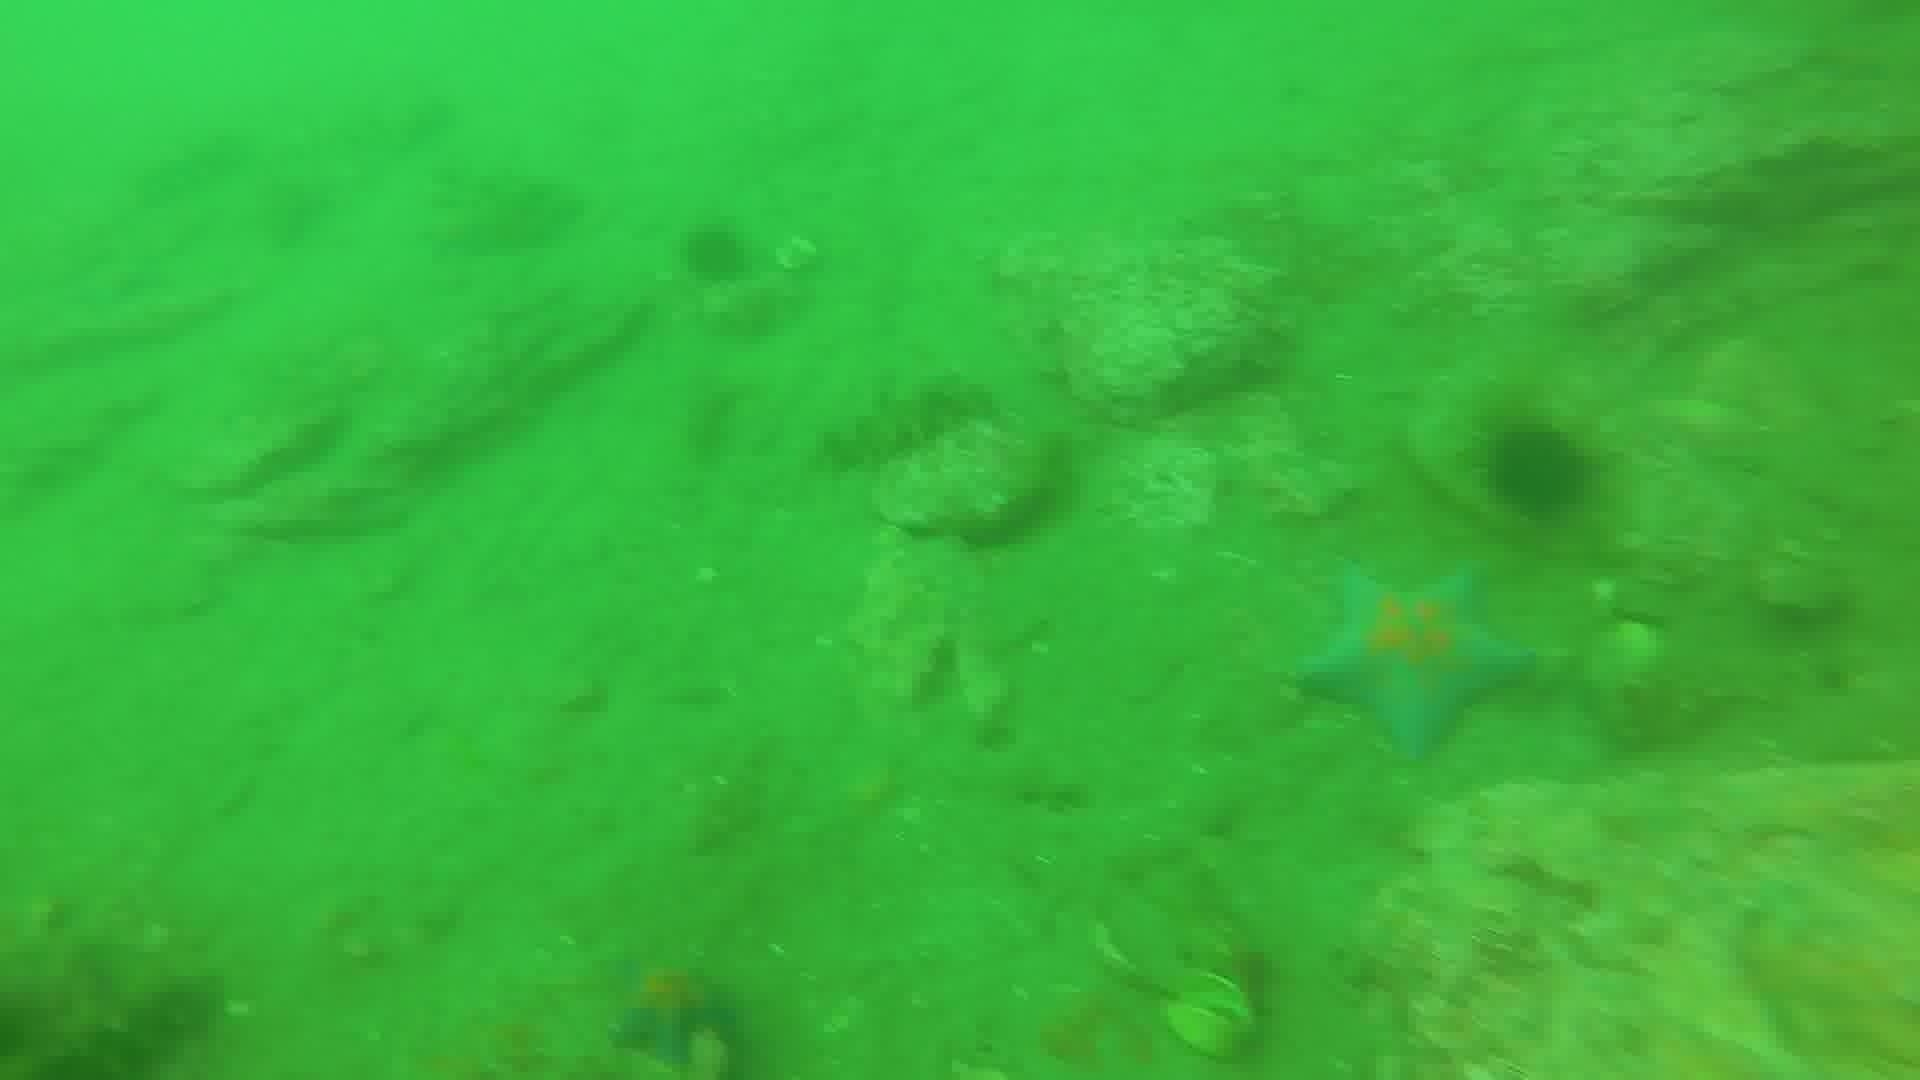echinus: (1478, 418, 1597, 524), (675, 219, 754, 289)
holothurian: (818, 369, 997, 473)
starfish: (1295, 559, 1534, 762), (603, 959, 748, 1069)
